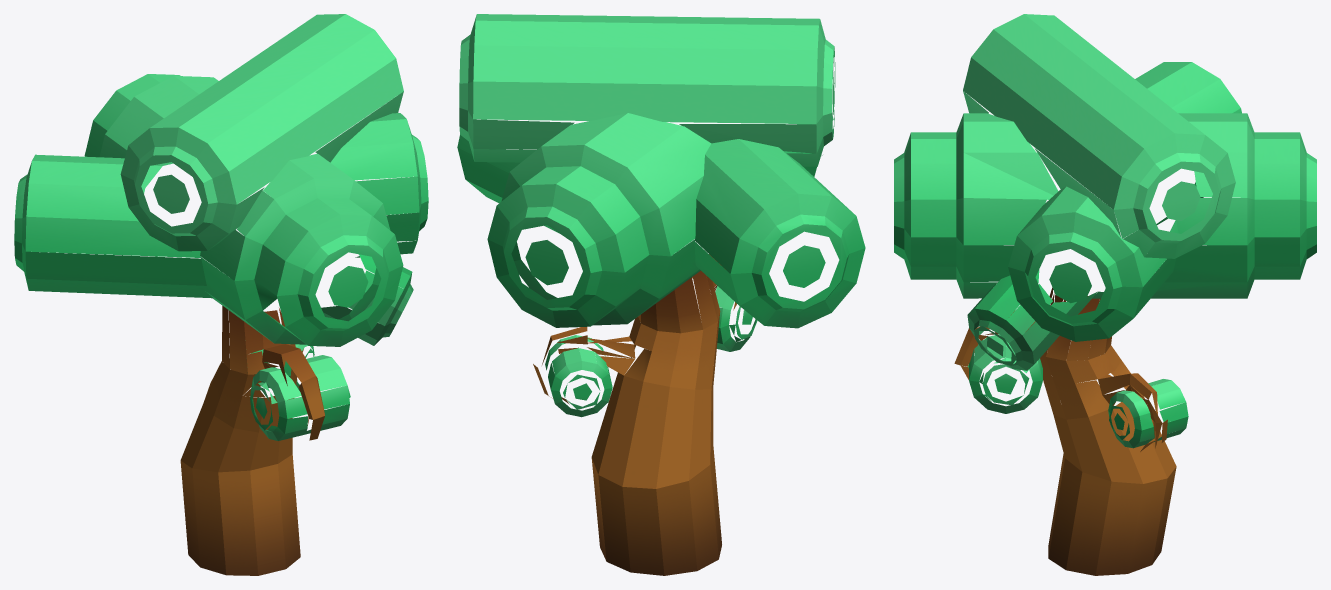
The model's file is BigTree2.glb.
The picture shows the model from 3 angles, left to right: view 1: azimuth 30°, elevation 25°; view 2: azimuth 150°, elevation 25°; view 3: azimuth 270°, elevation 25°; orthographic projection. The views are drawn at different scales.
Visible parts, largest first — view 1: Tree; view 2: Tree; view 3: Tree.
Boxes of the visible parts, <box> form: Tree: <box>14,14,428,575</box>; Tree: <box>457,14,865,575</box>; Tree: <box>894,14,1316,575</box>.
Bounding box in the file's own units: 4 × 4.88 × 3.85.
1 material, 1 textured.
